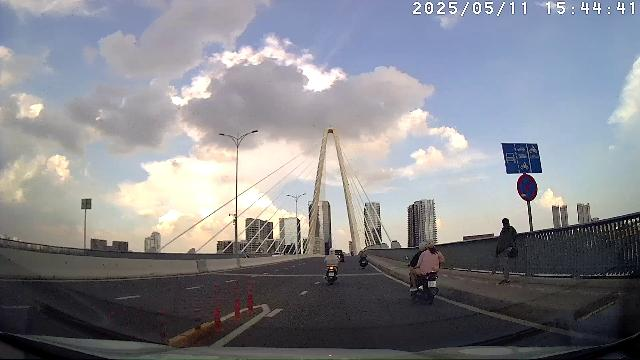130-cam-dung-va-do-xe: (517, 174, 538, 202)
